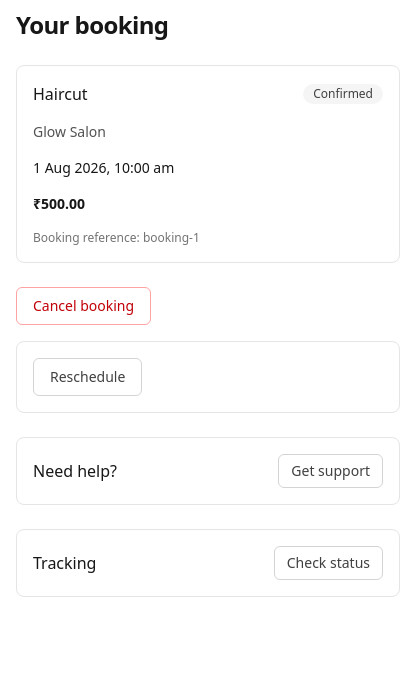
it: BookingStatusPage › reschedules a single-resource booking to a new time
Click the button "Reschedule" at (88, 377), box [33, 358, 142, 396]
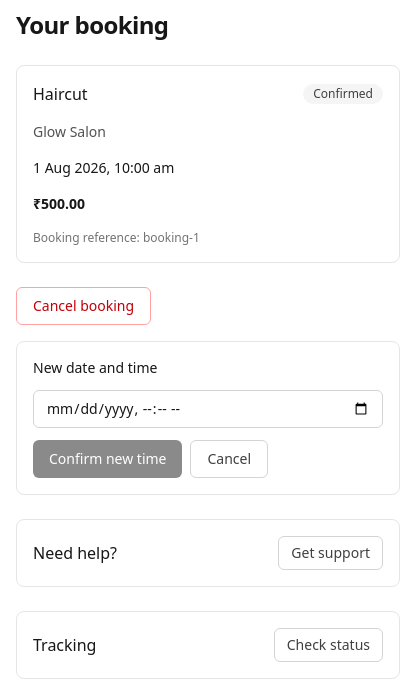
Type "2026-08-05T11:00" into the field labelled "New date and time" at (208, 409), box [33, 390, 383, 428]
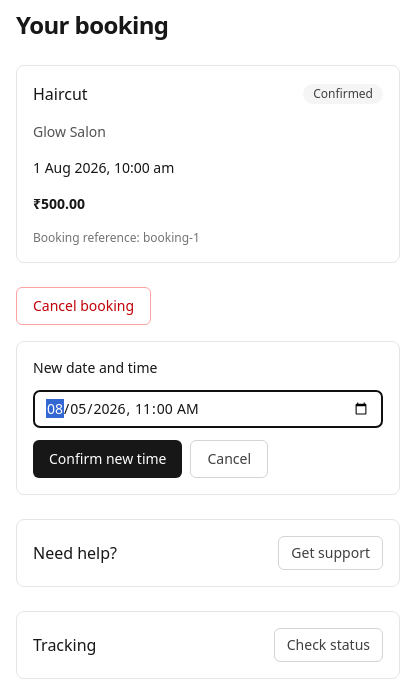
Click the button "Confirm new time" at (108, 459), box [33, 440, 182, 478]
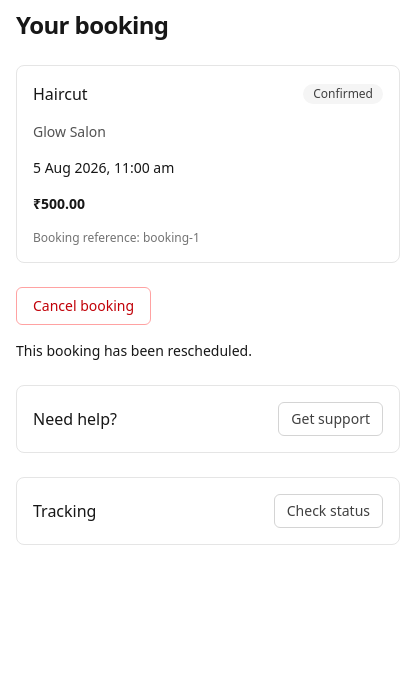
Check: the text "This booking has been rescheduled." is shown, box [16, 341, 252, 360]
